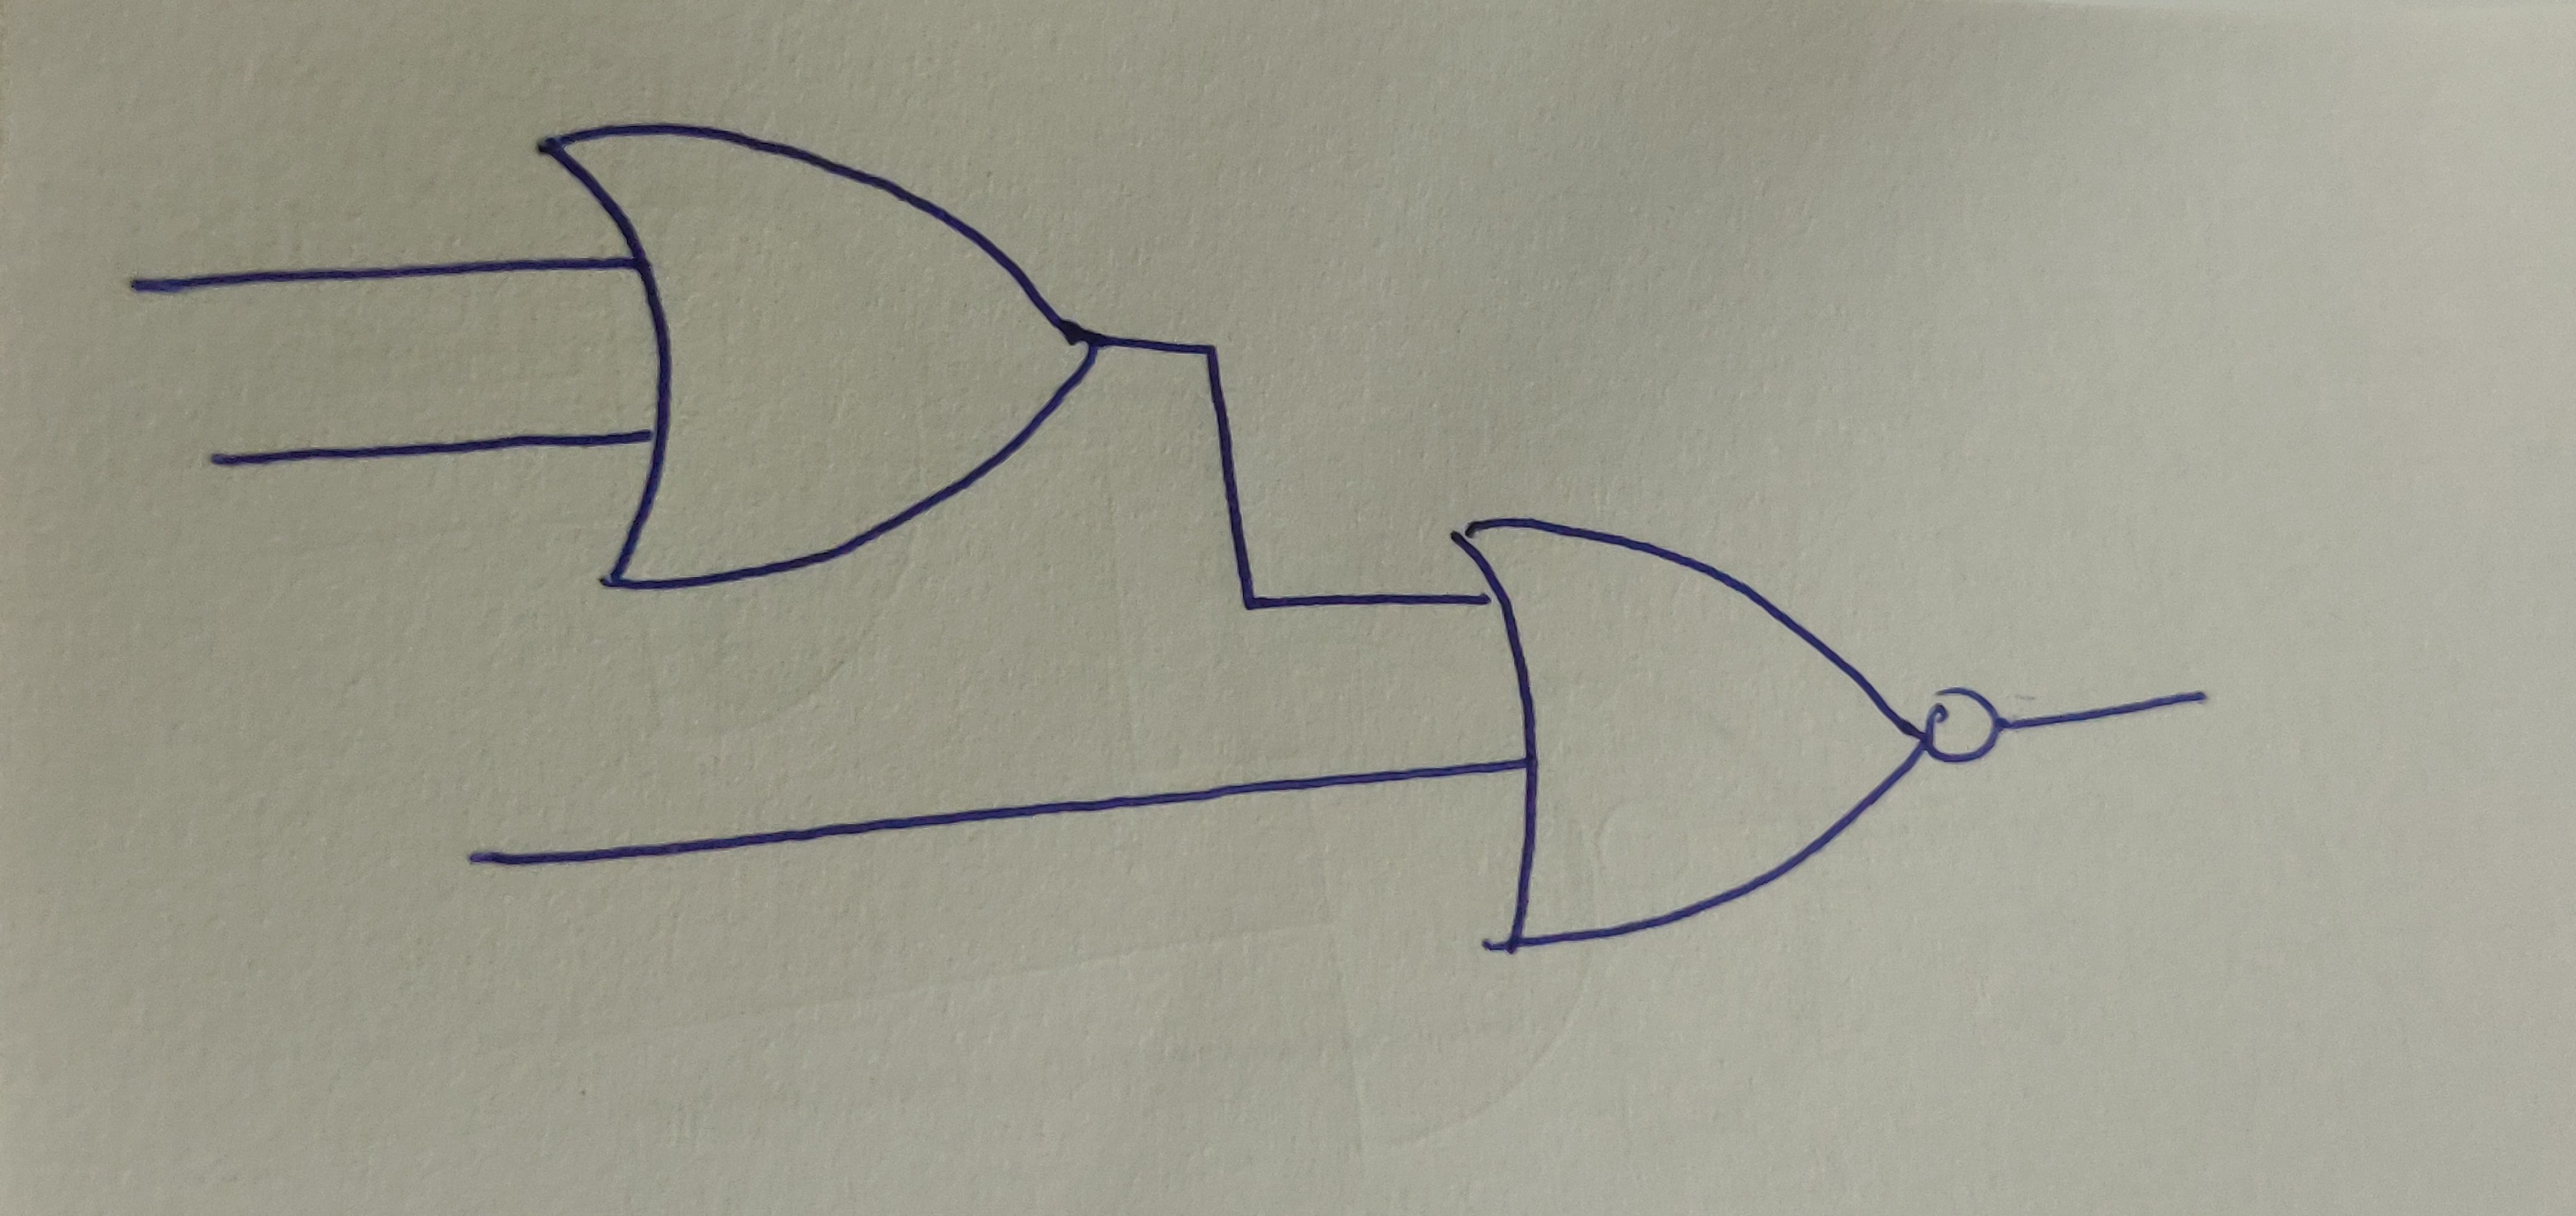not: (1935, 693, 2008, 771)
or: (529, 125, 1102, 596), (1446, 516, 1929, 955)
